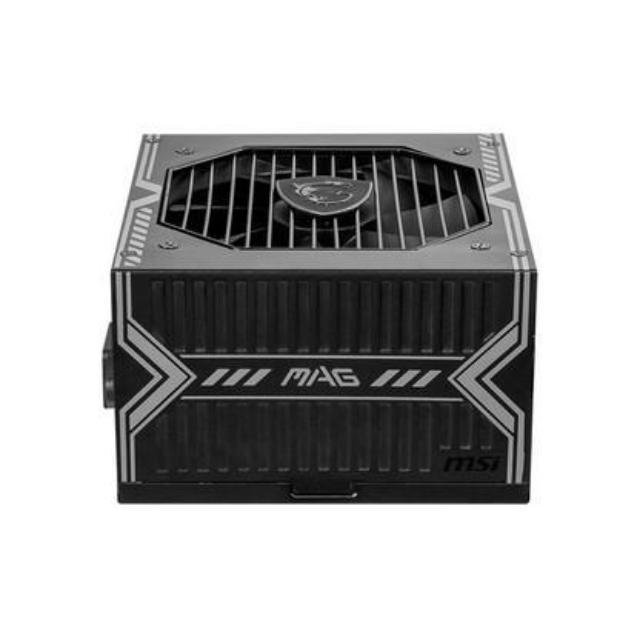PSU: (87, 123, 553, 514)
